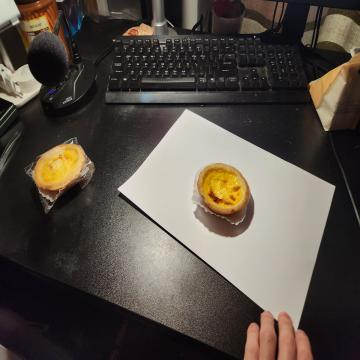EggTart: (195, 161, 251, 215)
